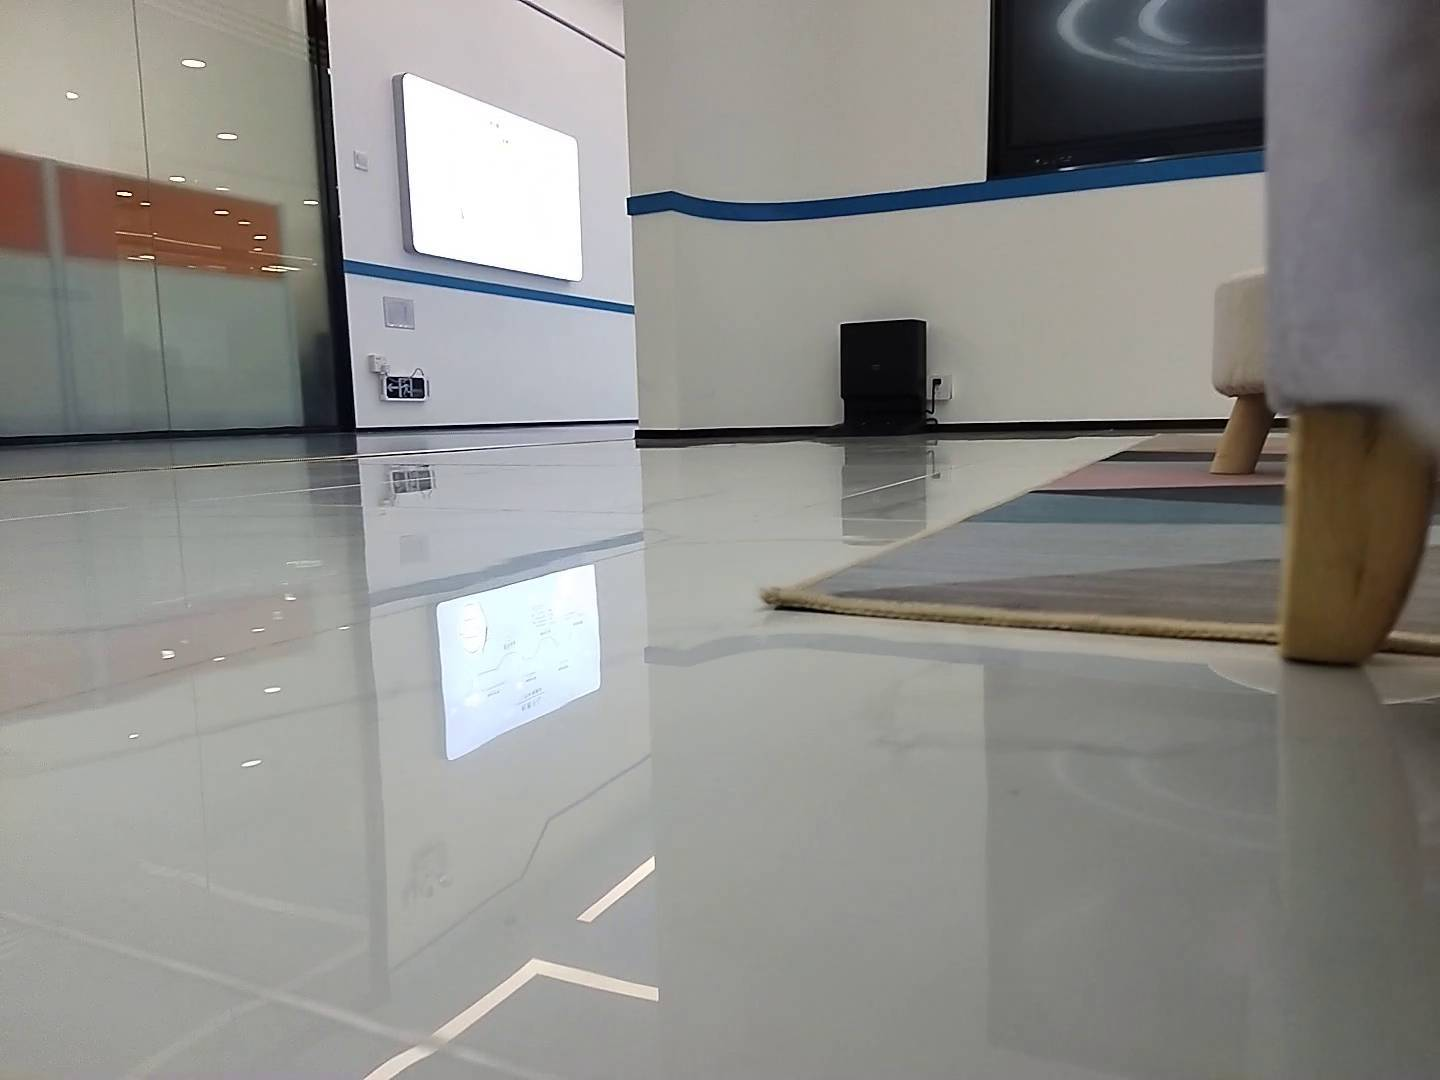dust collecting barrel: (820, 319, 934, 438)
